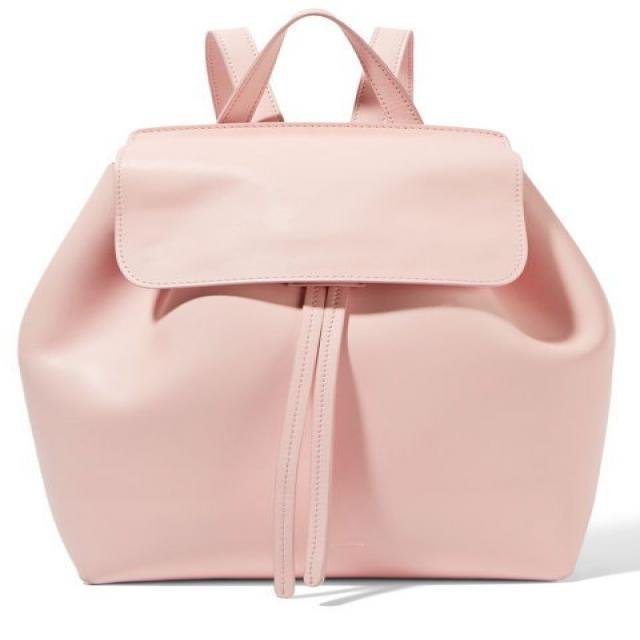Backpacks: (17, 123, 620, 598)
